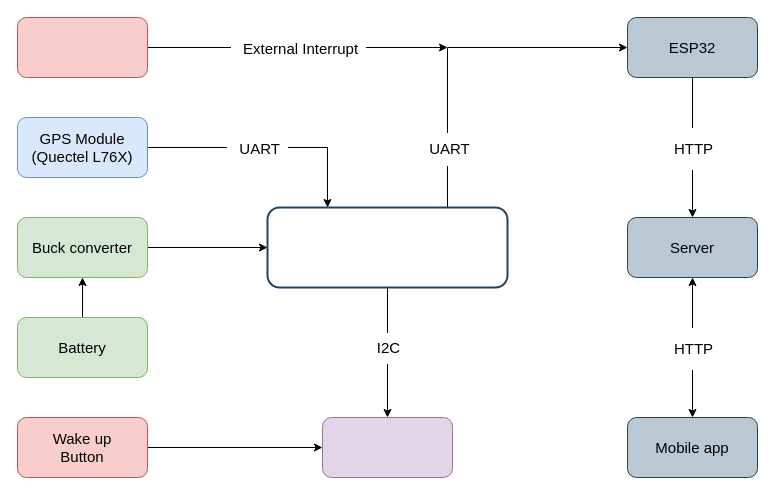
The diagram is 775 pixels wide and 495 high, and some of its shapes have lost their labels. The shapes that lost their labels are listed below. From the top down, each one's centre as x and y in pixels, then its label:
point (82, 47): Instant Warning Button
point (387, 247): STM32G103C8T6
point (387, 447): OLED 0.96 inch
